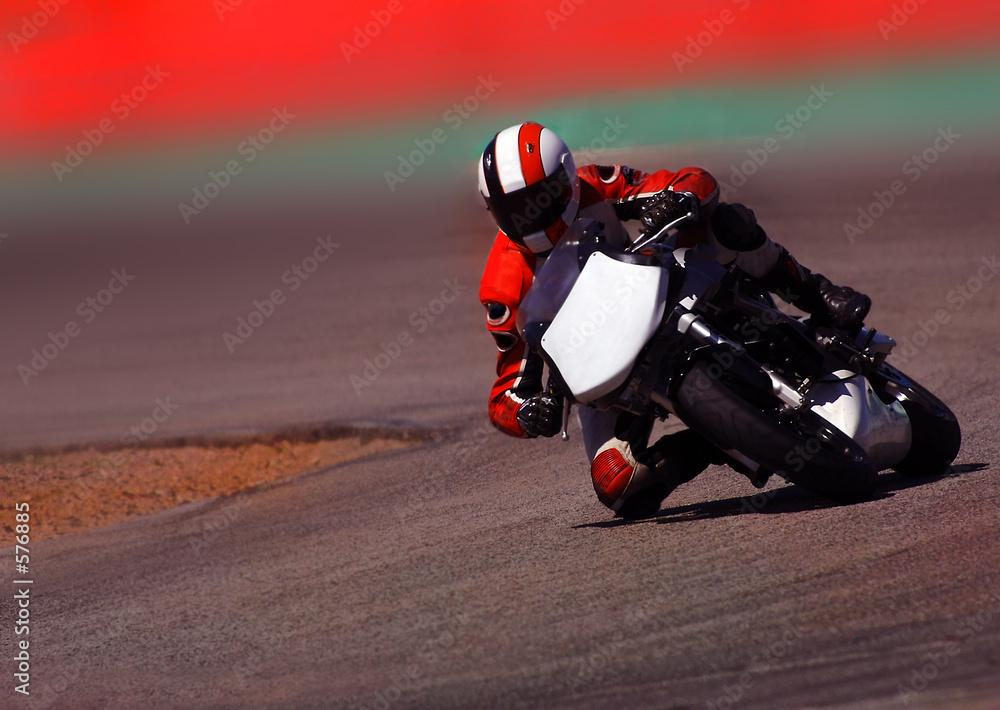helmet: (477, 120, 582, 258)
